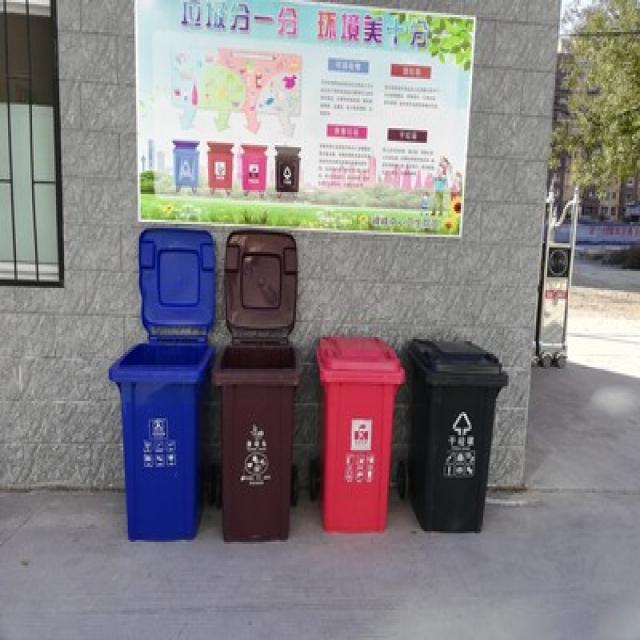ash bin: (106, 226, 216, 538), (208, 228, 302, 540), (402, 335, 507, 531), (310, 335, 405, 533)
